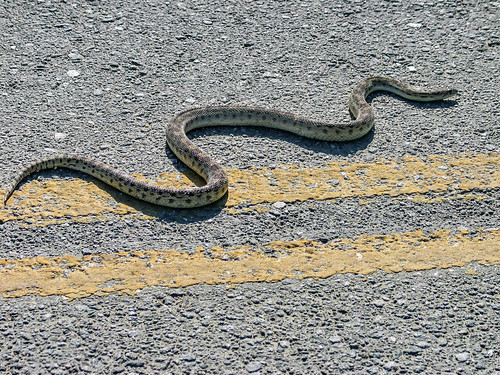animal: (14, 60, 474, 219)
